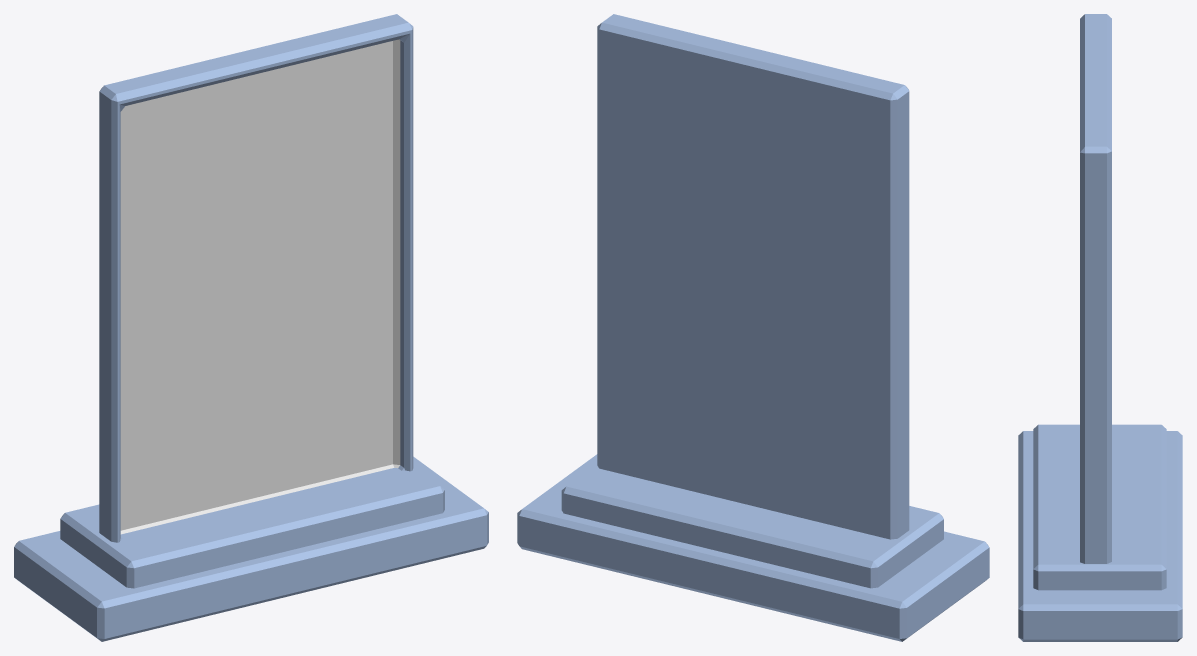
File: storyboard.fbx
The picture shows the model from 3 angles, left to right: view 1: azimuth 30°, elevation 25°; view 2: azimuth 150°, elevation 25°; view 3: azimuth 270°, elevation 25°; orthographic projection. The views are drawn at different scales.
Visible parts, largest first — view 1: StoryBoard; view 2: StoryBoard; view 3: StoryBoard.
Boxes of the visible parts, bbox=[...] form: StoryBoard: bbox=[14, 14, 488, 641]; StoryBoard: bbox=[517, 14, 989, 641]; StoryBoard: bbox=[1018, 14, 1182, 641].
Bounding box in the file's own units: 334 × 418 × 131.
